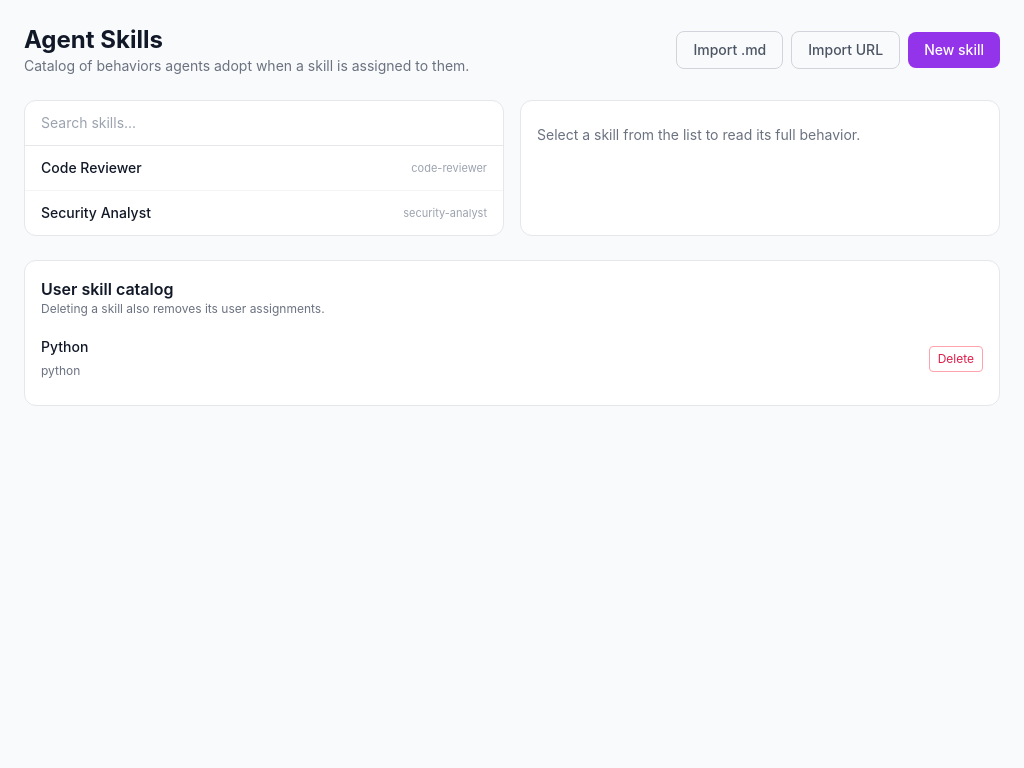
Scenario: AgentSkillsView (issue #610) › edits a selected skill through PUT with name and behavior
The width and height of the screenshot is (1024, 768).
Click the button "Security Analyst security-analyst" at (96, 212), box [25,191,503,235]
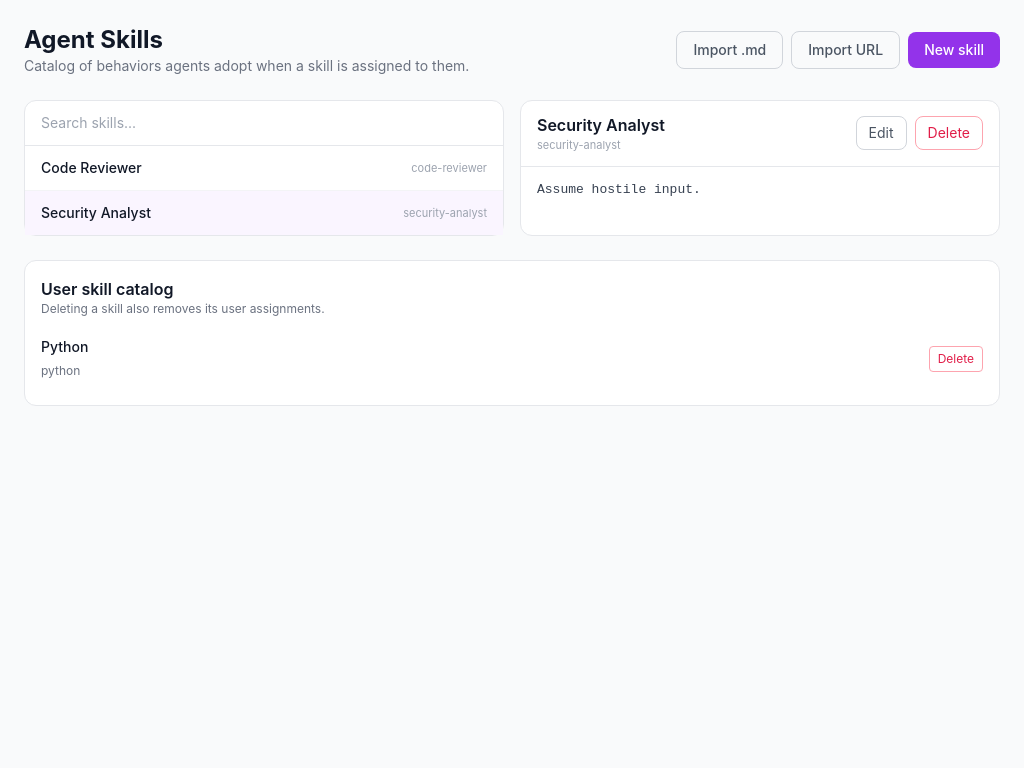
Click the button "Edit" at (881, 133), box [856,116,907,150]
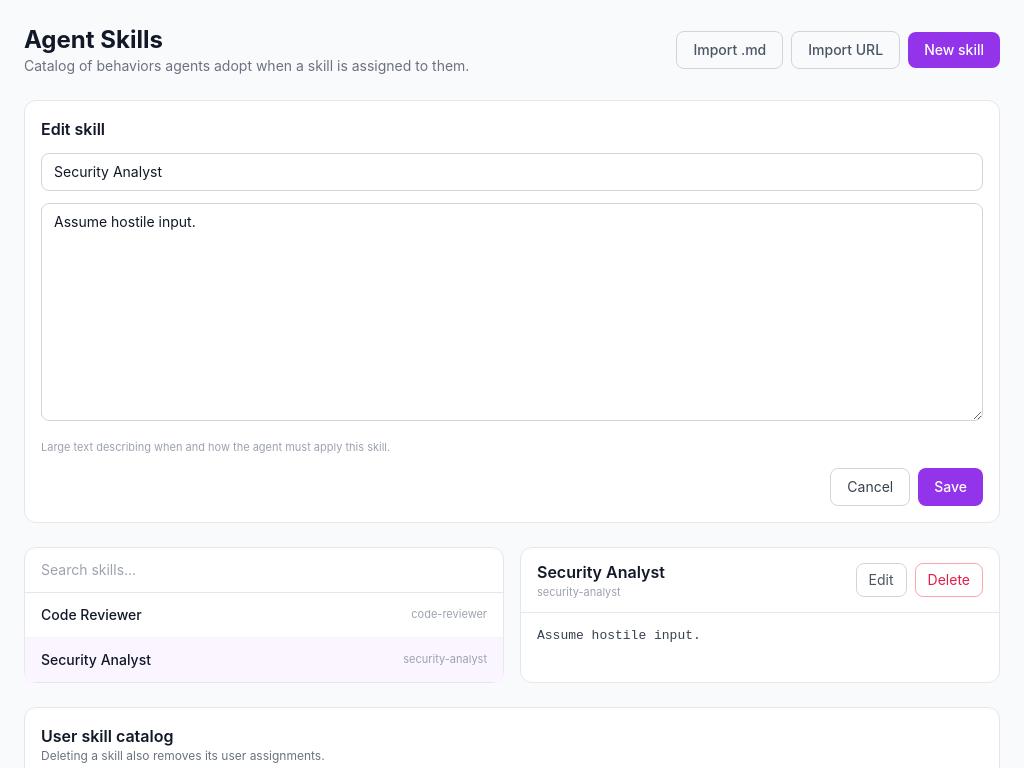
Replace the text in the field with placeholder "Skill name" with "Sec Analyst" at (512, 172), box [41,153,983,191]
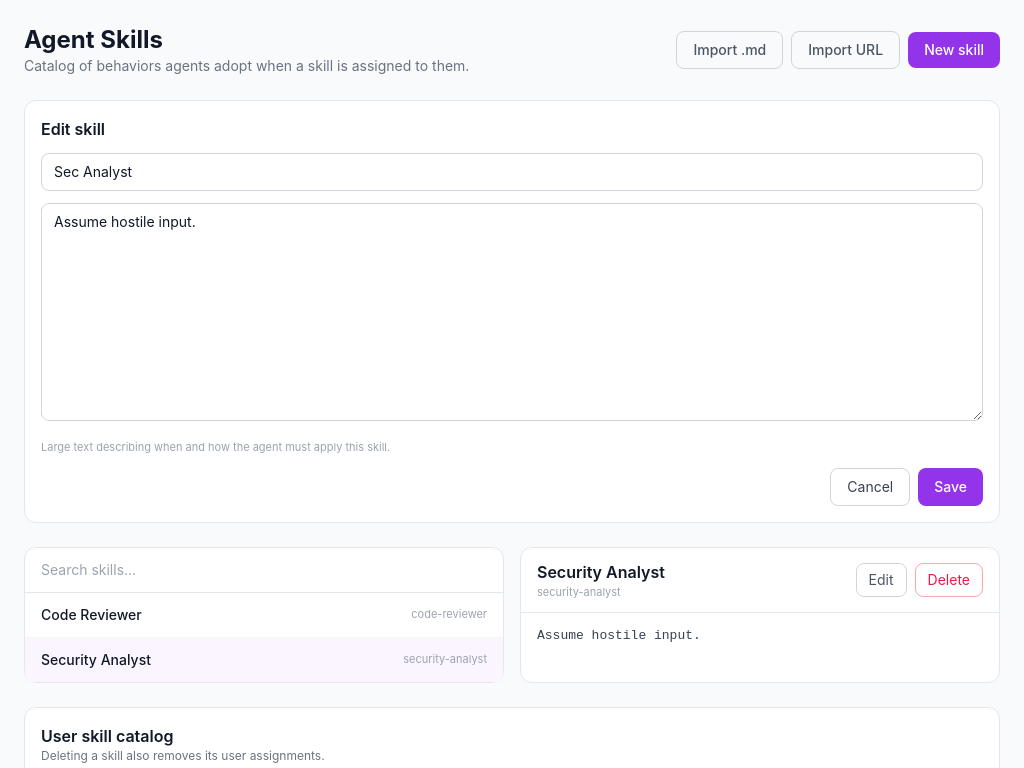
Replace the text in the text box with "Assume hostile input, always." at (512, 312), box [41,203,983,421]
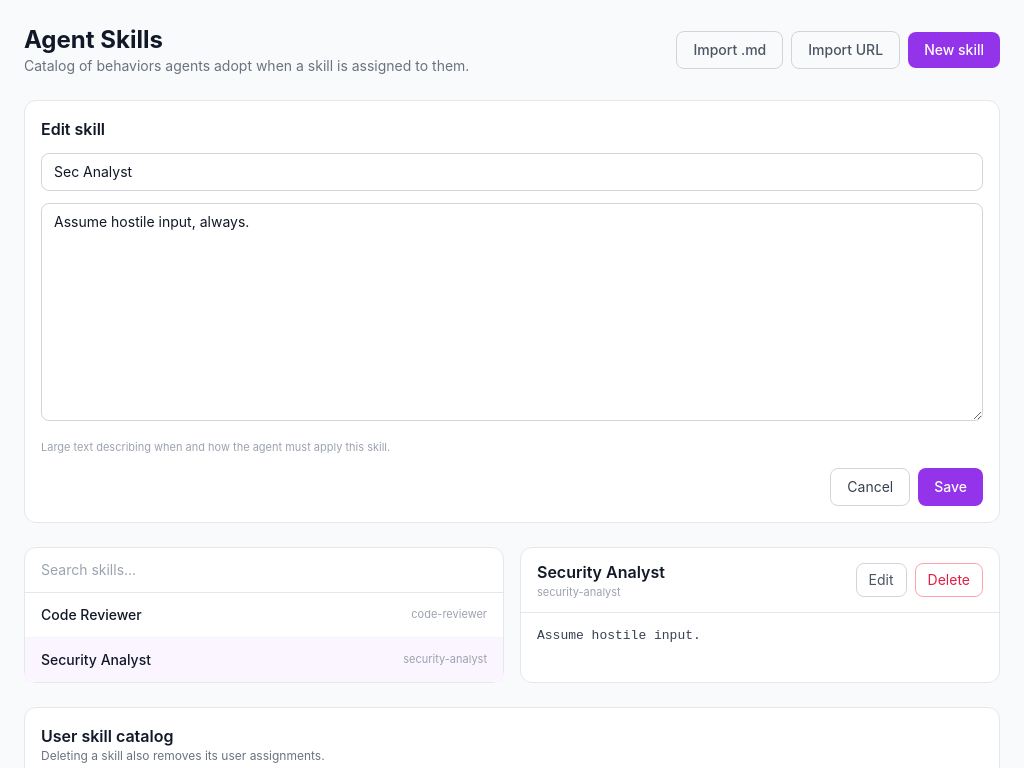
Click the button "Save" at (951, 486), box [918,468,983,506]
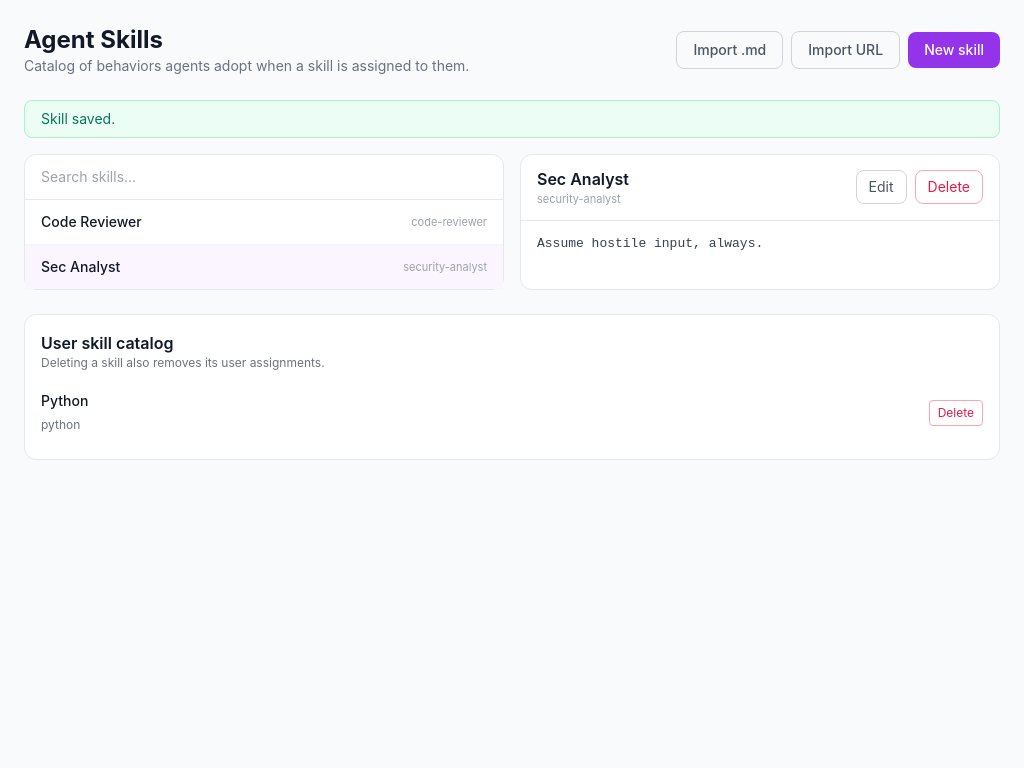
expect the text "Sec Analyst" is shown: met, box [41,257,120,277]
